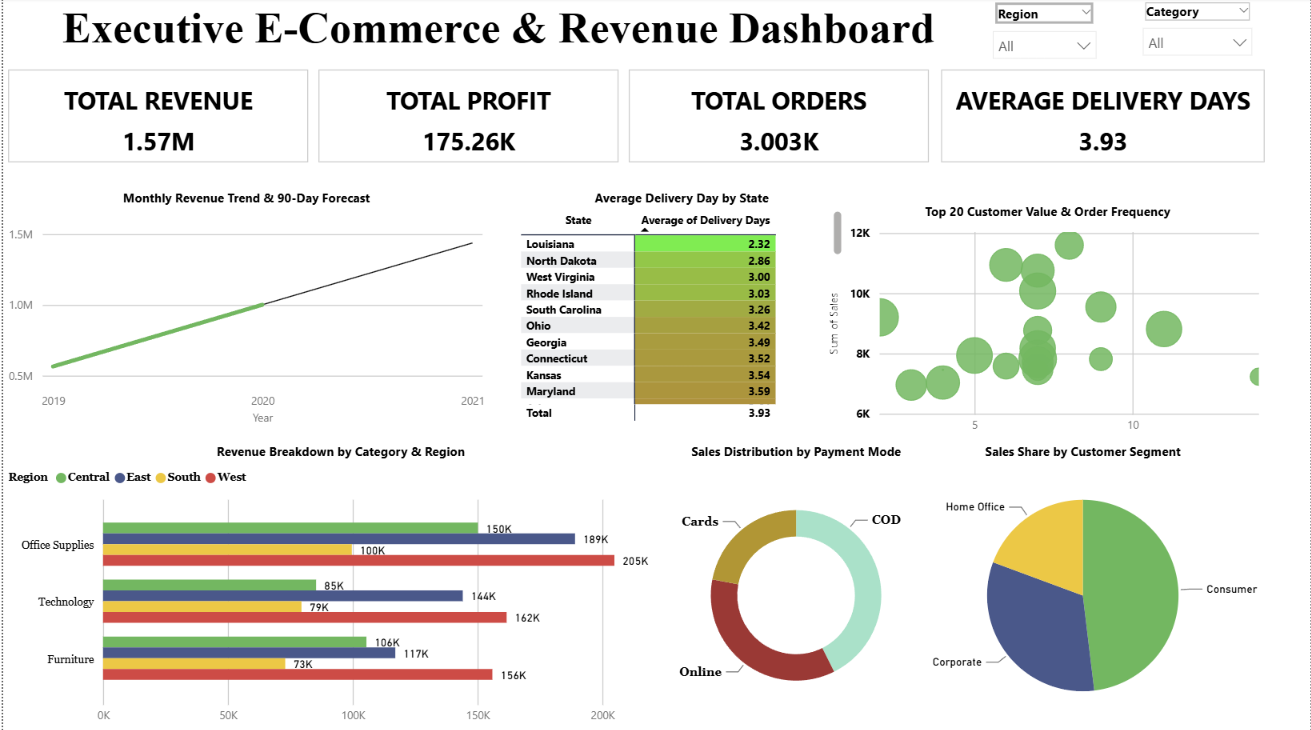

The dashboard page shown, as its layout file describes it:
{"tool":"powerbi","page":{"name":"Page 1","canvas":[1280,720],"ordinal":0},"visuals":[{"type":"textbox","box":[10.5,0,948.8,61.6],"z":0},{"type":"slicer","fields":{"Values":["Sheet1.Region"]},"box":[959.3,0,122.1,66.3],"z":1000},{"type":"slicer","fields":{"Values":["Sheet1.Category"]},"box":[1105.8,0,127.9,66.3],"z":2000},{"type":"cardVisual","fields":{"Data":["Sum(Sheet1.Sales)","Sum(Sheet1.Profit)","Count(Sheet1.Order ID)"]},"box":[0,66,914,101],"z":3000},{"type":"lineChart","title":"Monthly Revenue Trend & 90-Day Forecast","fields":{"Category":["Sheet1.Order Date.Variation.Date Hierarchy.Year","Sheet1.Order Date.Variation.Date Hierarchy.Quarter","Sheet1.Order Date.Variation.Date Hierarchy.Month","Sheet1.Order Date.Variation.Date Hierarchy.Day"],"Y":["Sum(Sheet1.Sales)"]},"box":[0,188.4,476.7,234.9],"z":4000},{"type":"scatterChart","title":"Top 20 Customer Value & Order Frequency","fields":{"Category":["Sheet1.Customer Name"],"X":["Sheet1.Order ID"],"Y":["Sum(Sheet1.Sales)"],"Size":["Sum(Sheet1.Profit)"]},"box":[805,201,436,235],"z":5000},{"type":"pivotTable","title":"Average Delivery Day by State","fields":{"Rows":["Sheet1.State"],"Values":["Avg(Sheet1.Delivery Days)"]},"box":[502.3,188.4,324.4,231.4],"z":6000},{"type":"clusteredBarChart","title":"Revenue Breakdown by Category & Region","fields":{"Category":["Sheet1.Category"],"Y":["Sum(Sheet1.Sales)"],"Series":["Sheet1.Region"]},"box":[0,436,661.6,283.7],"z":7000},{"type":"pieChart","title":"Sales Share by Customer Segment","fields":{"Y":["Sum(Sheet1.Sales)"],"Category":["Sheet1.Segment"]},"box":[875,436,366,284],"z":8000},{"type":"donutChart","title":"Sales Distribution by Payment Mode","fields":{"Category":["Sheet1.Payment Mode"],"Y":["Sum(Sheet1.Sales)"]},"box":[639.5,436,274.4,283.7],"z":9000},{"type":"cardVisual","fields":{"Data":["Avg(Sheet1.Delivery Days)"]},"box":[914,66,327,101],"z":9001}]}

Visuals, with their boxes in screenshot pixels (x1, y1, x2, y2), scaled from the page's 1280x720 canvas onto the 1311x730 screenshot:
textbox: bbox(11, 0, 983, 62)
slicer - Sheet1.Region: bbox(983, 0, 1108, 67)
slicer - Sheet1.Category: bbox(1133, 0, 1264, 67)
cardVisual - Sum(Sheet1.Sales) x Sum(Sheet1.Profit): bbox(0, 67, 936, 169)
"Monthly Revenue Trend & 90-Day Forecast" lineChart: bbox(0, 191, 488, 429)
"Top 20 Customer Value & Order Frequency" scatterChart: bbox(824, 204, 1271, 442)
"Average Delivery Day by State" pivotTable: bbox(514, 191, 847, 426)
"Revenue Breakdown by Category & Region" clusteredBarChart: bbox(0, 442, 678, 729)
"Sales Share by Customer Segment" pieChart: bbox(896, 442, 1271, 729)
"Sales Distribution by Payment Mode" donutChart: bbox(655, 442, 936, 729)
cardVisual - Avg(Sheet1.Delivery Days): bbox(936, 67, 1271, 169)
